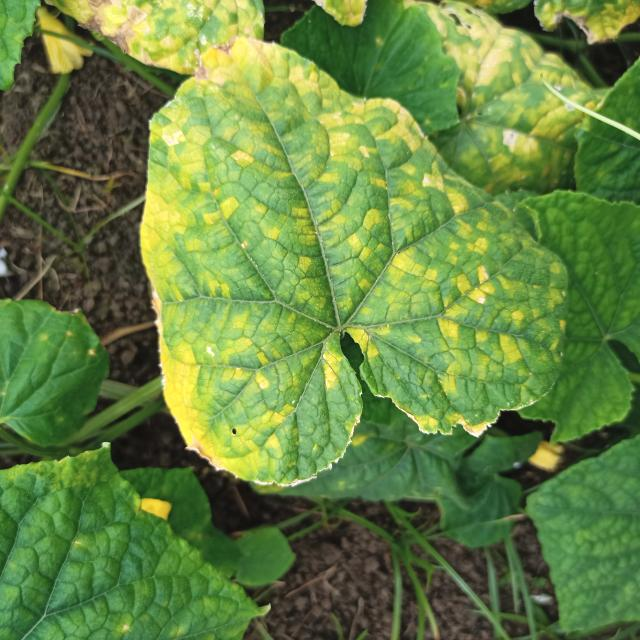disease_cucumber: (138, 44, 567, 485)
